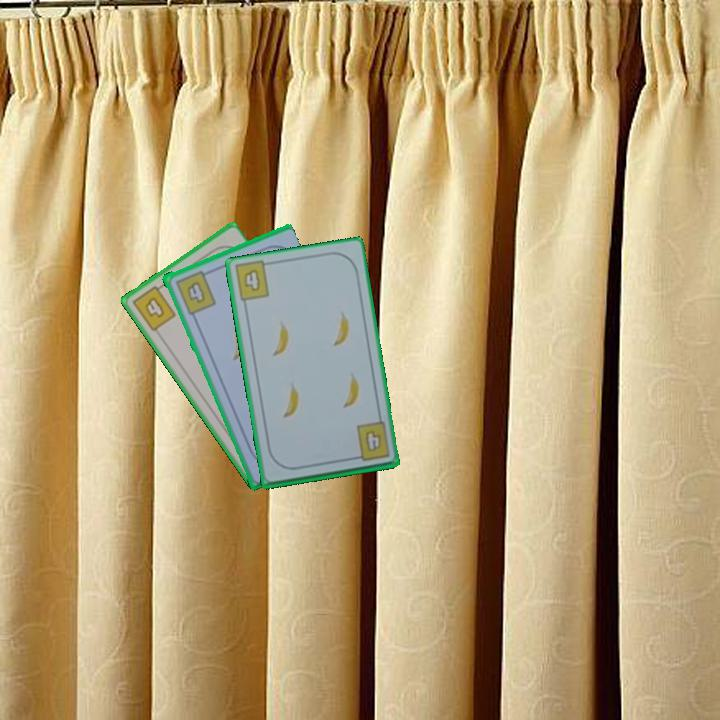4b: (128, 280, 179, 334), (172, 267, 219, 317), (348, 419, 393, 464), (240, 265, 263, 294)
